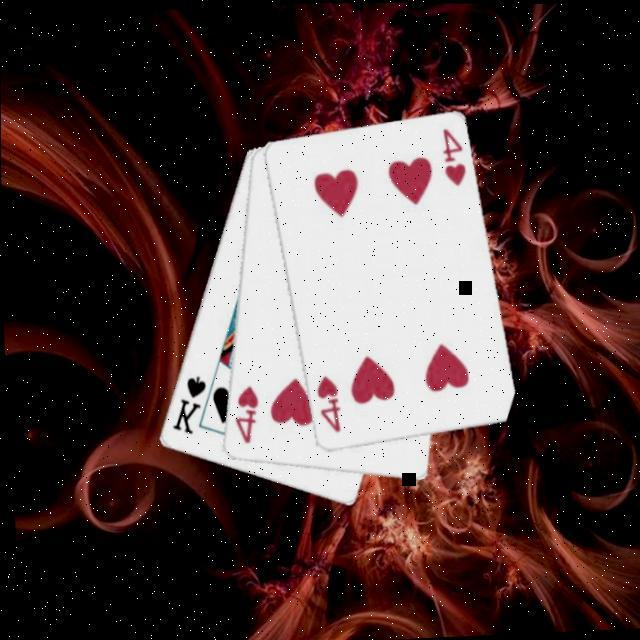4H: (228, 382, 262, 448), (436, 125, 468, 190), (310, 373, 342, 436)
KS: (164, 372, 208, 438)
